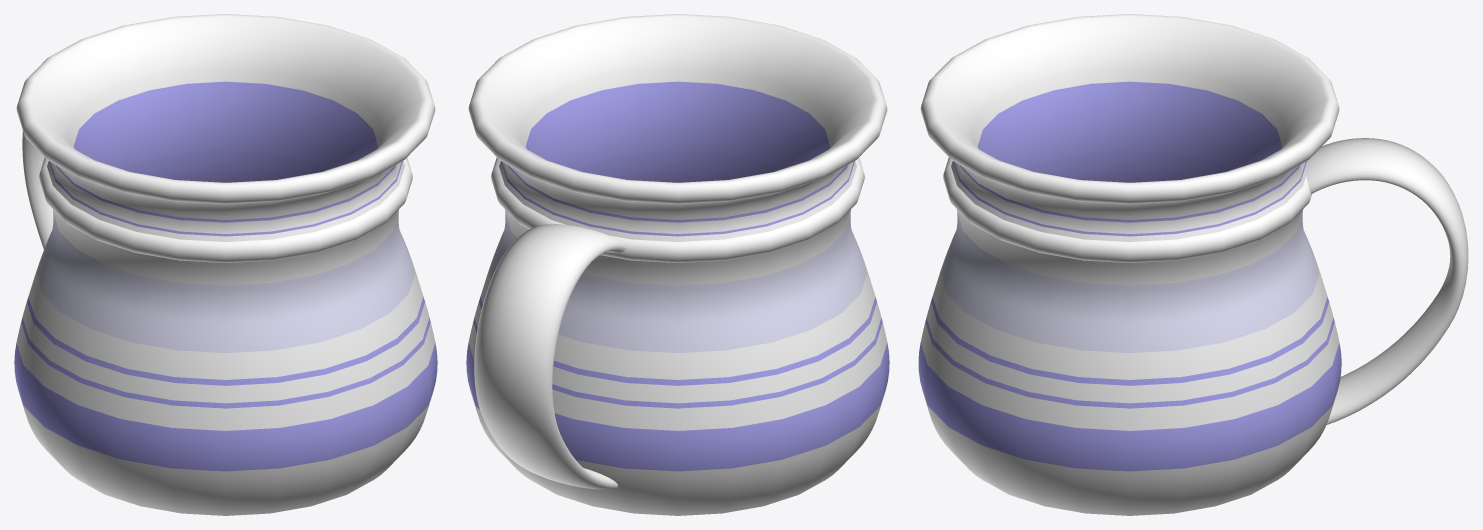
3 renders of one model, left to right at view 1: azimuth 30°, elevation 25°; view 2: azimuth 150°, elevation 25°; view 3: azimuth 270°, elevation 25°, orthographic.
Parts seen in each view (by area): view 1: mesh1_mesh1-geometry_2, mesh1_mesh1-geometry, mesh1_mesh1-geometry_3, mesh2_mesh2-geometry; view 2: mesh1_mesh1-geometry_2, mesh1_mesh1-geometry, mesh1_mesh1-geometry_3, mesh2_mesh2-geometry; view 3: mesh1_mesh1-geometry_2, mesh1_mesh1-geometry, mesh1_mesh1-geometry_3, mesh2_mesh2-geometry.
Part boxes in pixels (x1,y1,x2,y2): mesh1_mesh1-geometry_2: (16,14,435,515); mesh1_mesh1-geometry: (14,81,437,471); mesh1_mesh1-geometry_3: (36,213,415,352); mesh2_mesh2-geometry: (22,131,53,249); mesh1_mesh1-geometry_2: (468,14,887,515); mesh1_mesh1-geometry: (466,81,889,471); mesh1_mesh1-geometry_3: (488,213,867,352); mesh2_mesh2-geometry: (474,224,626,489); mesh1_mesh1-geometry_2: (920,14,1339,515); mesh1_mesh1-geometry: (918,81,1341,471); mesh1_mesh1-geometry_3: (940,213,1319,352); mesh2_mesh2-geometry: (1306,138,1468,424).
Size of the model in its own units: 0.5348 by 0.4804 by 0.6951.
